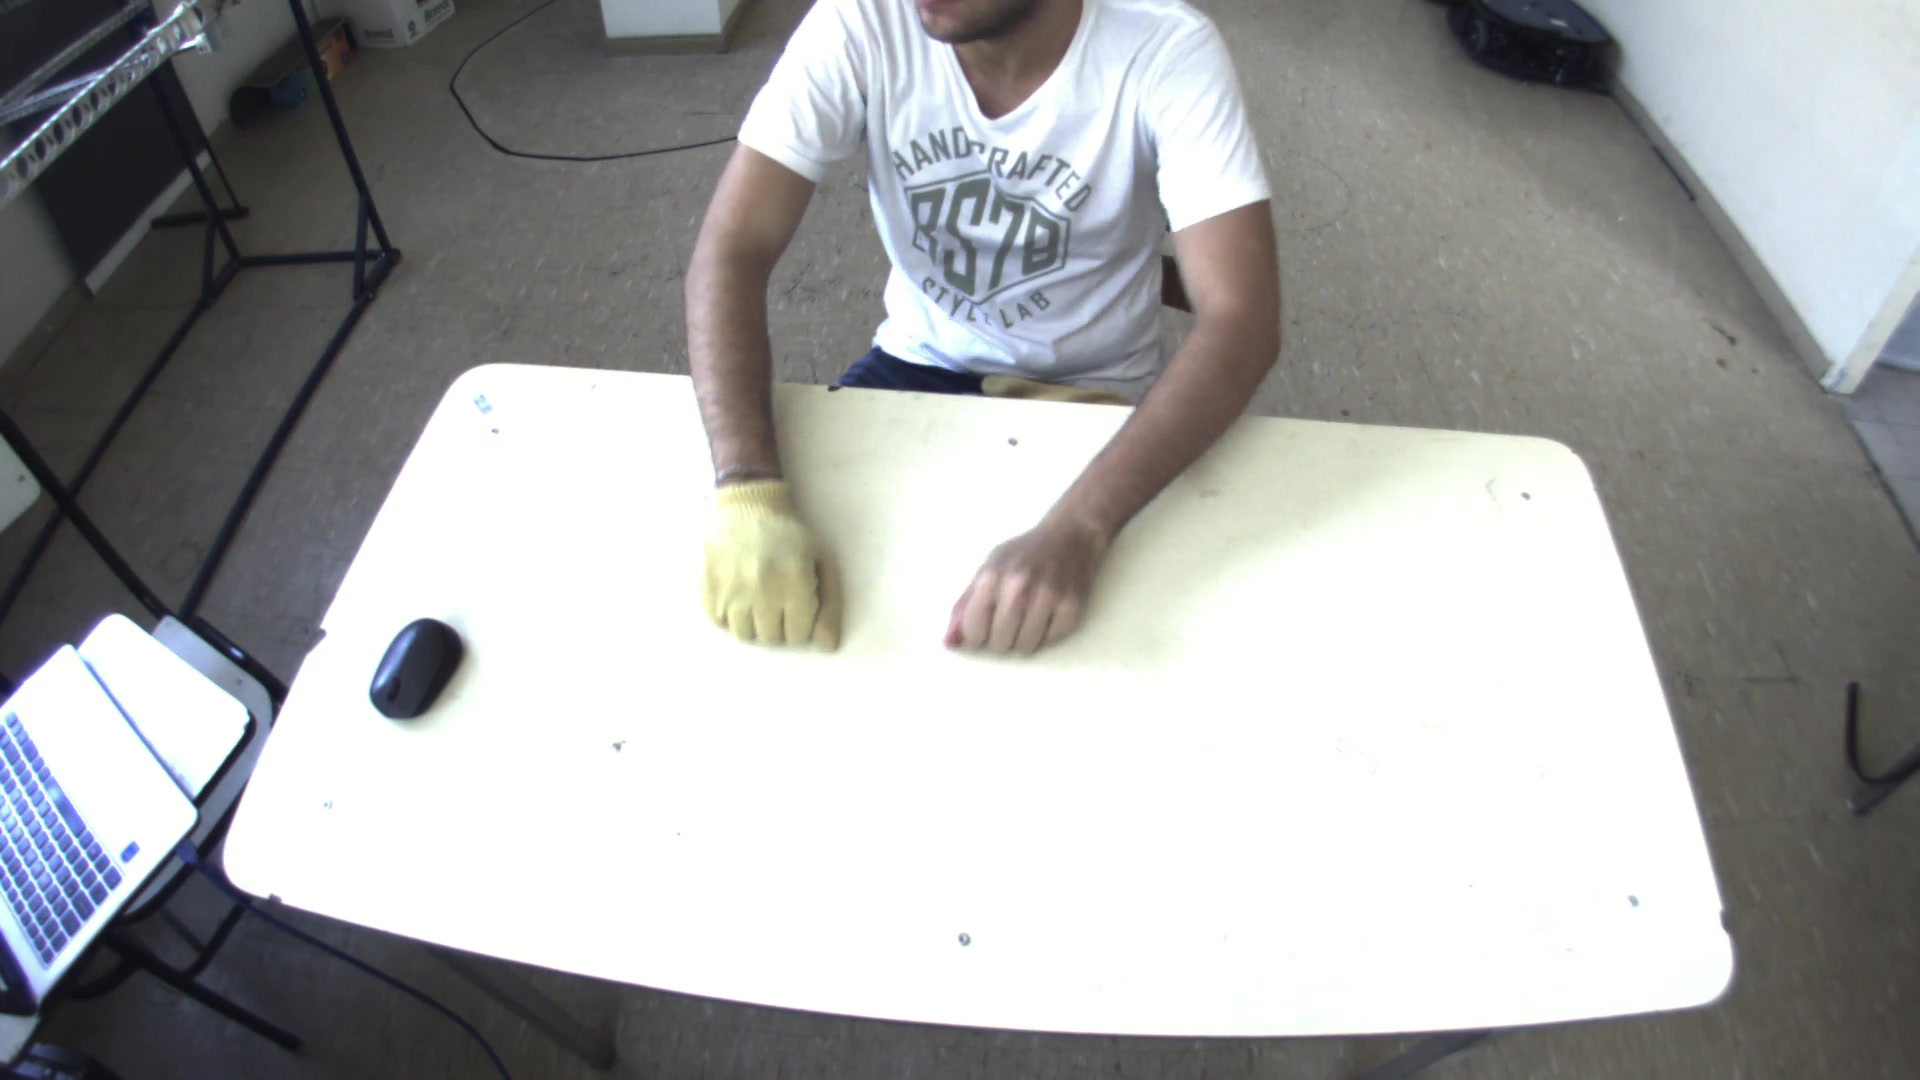hand: (679, 469, 843, 654), (942, 496, 1110, 657)
